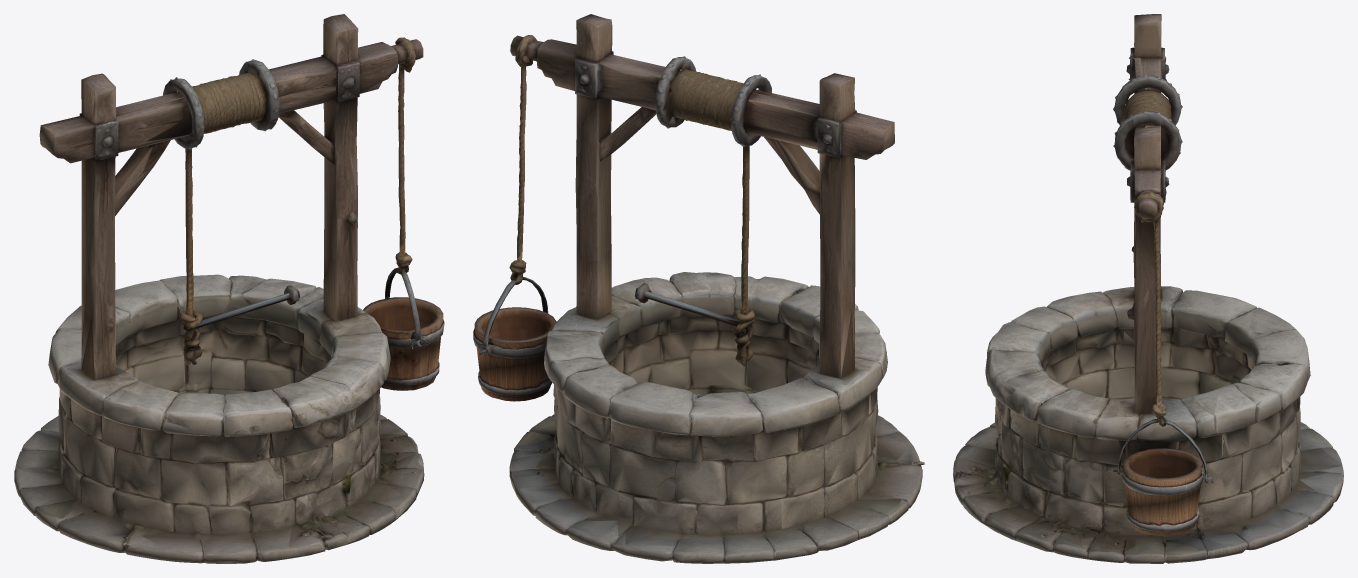
File: well.glb
3 renders of one model, left to right at view 1: azimuth 30°, elevation 25°; view 2: azimuth 150°, elevation 25°; view 3: azimuth 270°, elevation 25°, orthographic. The views are drawn at different scales.
Visible parts, largest first — view 1: tripo_node_890c9364-bb4b-4291-8e40-1cd92d9c5967; view 2: tripo_node_890c9364-bb4b-4291-8e40-1cd92d9c5967; view 3: tripo_node_890c9364-bb4b-4291-8e40-1cd92d9c5967.
Part boxes in pixels (<box>): tripo_node_890c9364-bb4b-4291-8e40-1cd92d9c5967: <box>14,14,444,563</box>; tripo_node_890c9364-bb4b-4291-8e40-1cd92d9c5967: <box>473,14,924,563</box>; tripo_node_890c9364-bb4b-4291-8e40-1cd92d9c5967: <box>953,14,1343,563</box>.
Bounding box in the file's own units: 0.9924 × 1 × 0.8662.
1 material, 1 textured.
